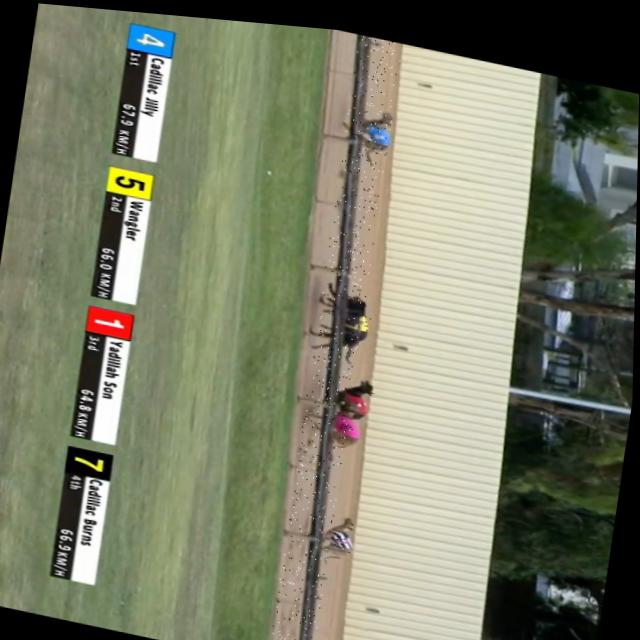dog_eight: (329, 411, 360, 430)
dog_five: (353, 307, 371, 328)
dog_four: (360, 117, 390, 138)
dog_one: (340, 386, 371, 406)
dog_seven: (338, 309, 362, 327)
dog_two: (320, 522, 355, 547)
rail: (299, 28, 369, 640)
